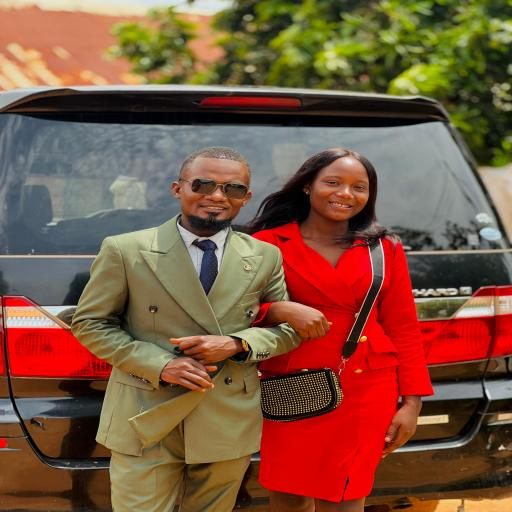MATTHIEU: (165, 140, 255, 240)
